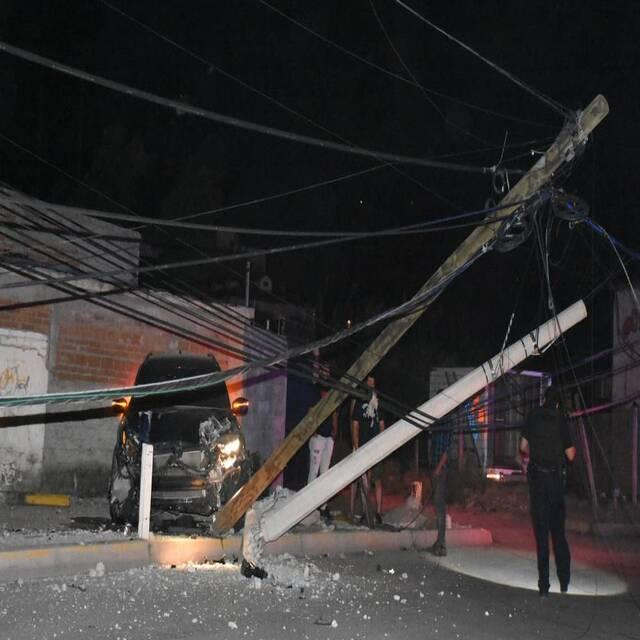Inclined Pole: (206, 94, 615, 526), (253, 294, 597, 535)
